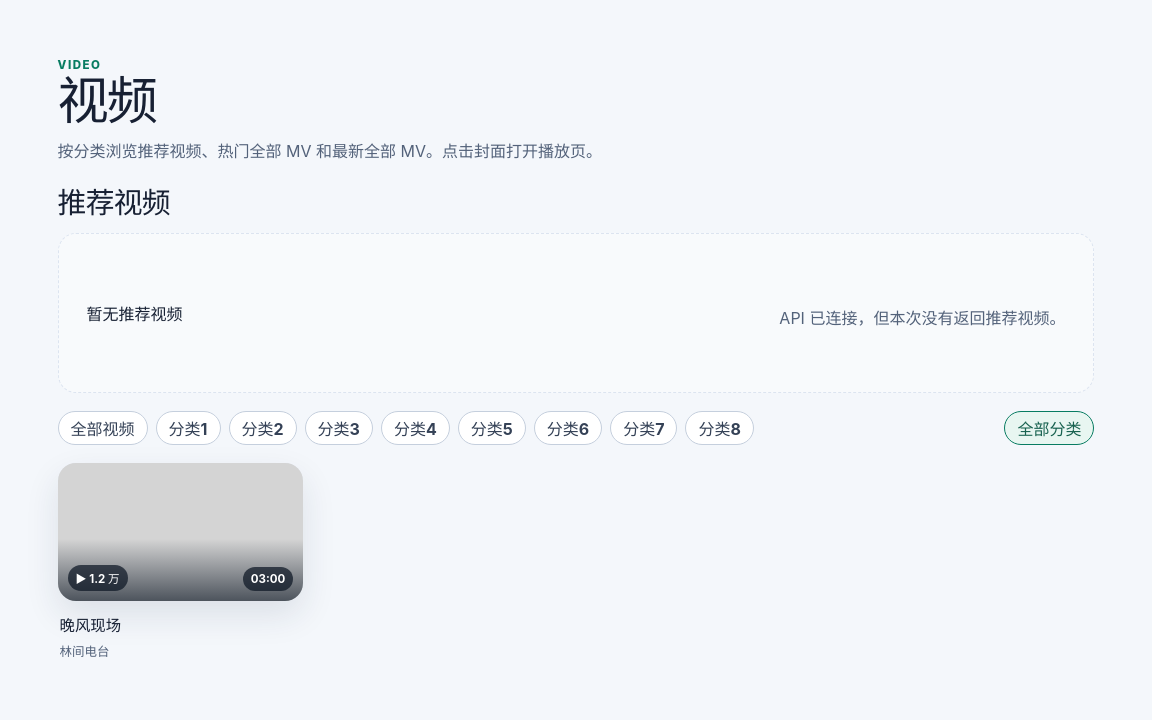
Test: VideoHallView › opens the all-groups panel, selects a hidden chip and closes
Click the button with test id "video-all-groups". click: (1049, 428)
box: [1004,411,1094,445]
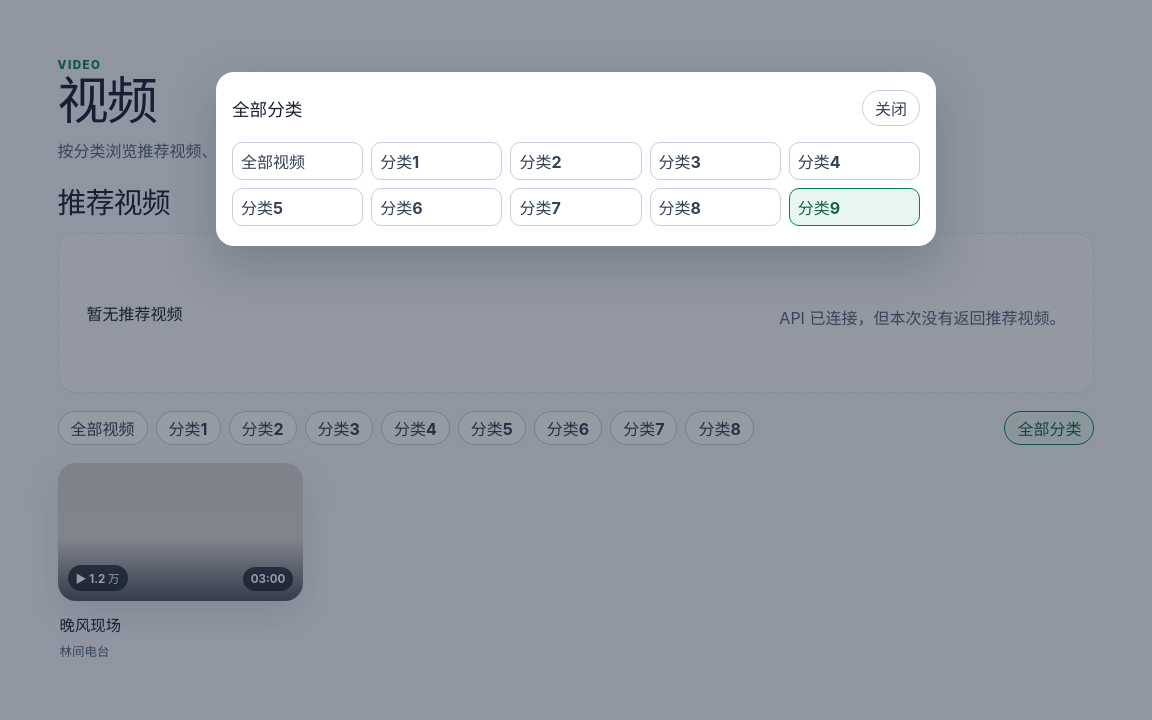
Expected: the dialog with test id "video-group-panel" shows "分类9"
Click the button "分类9". click: (854, 207)
box: [789,188,920,226]
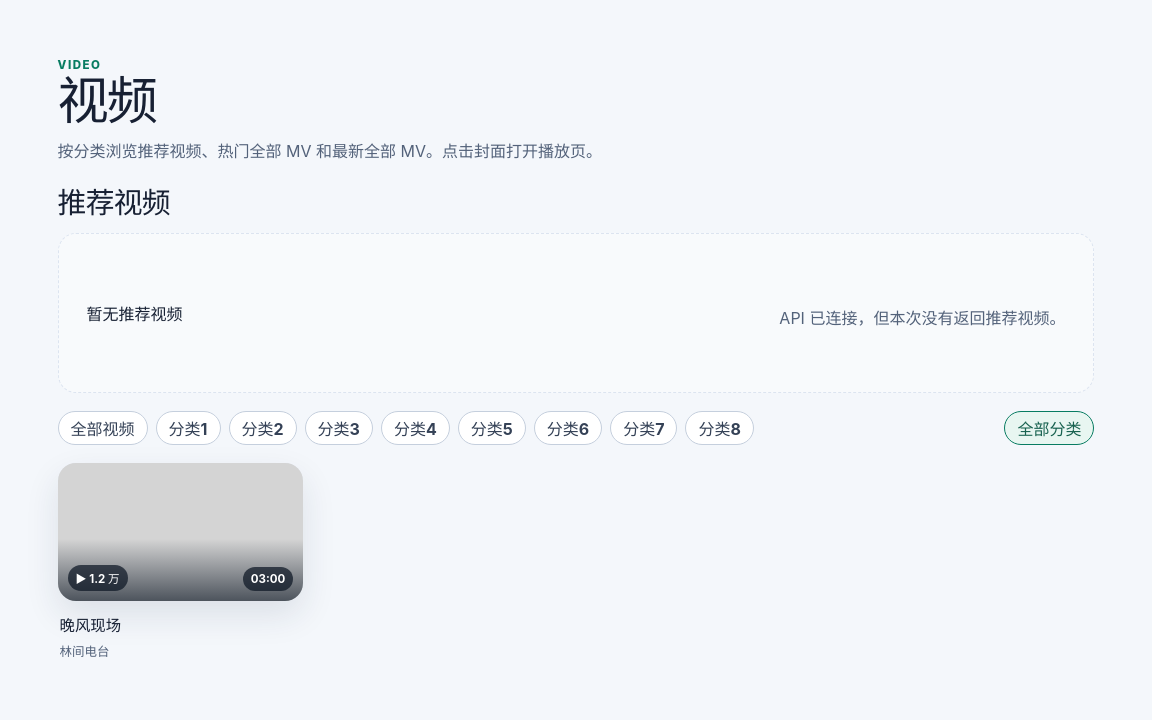
Expected: the dialog with test id "video-group-panel" is gone
